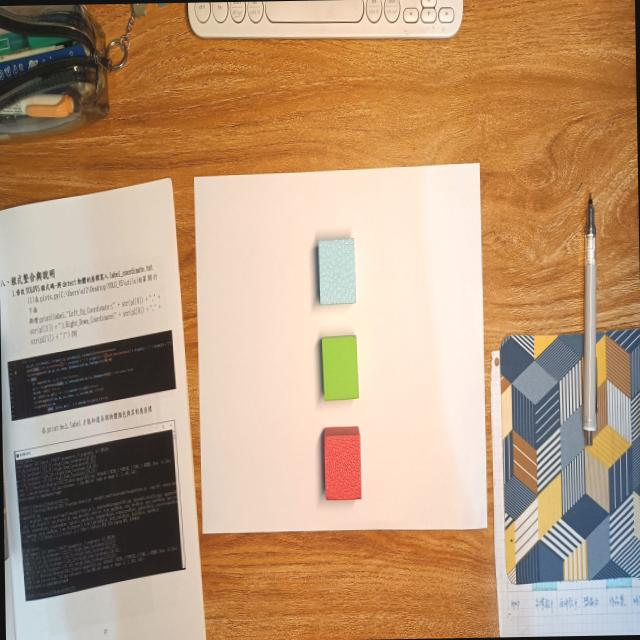BLUE: (316, 237, 356, 306)
GREEN: (321, 336, 358, 402)
RED: (322, 426, 361, 502)
